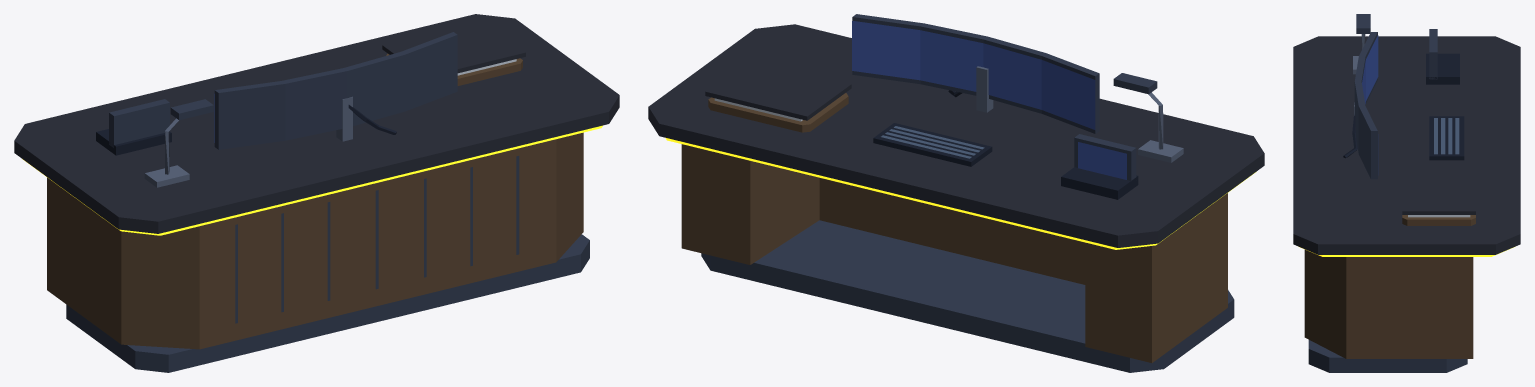
File: off_executive_desk.glb
The picture shows the model from 3 angles, left to right: view 1: azimuth 30°, elevation 25°; view 2: azimuth 150°, elevation 25°; view 3: azimuth 270°, elevation 25°; orthographic projection. The views are drawn at different scales.
Visible parts, largest first — view 1: brief, folio_cover, comms_terminal, floating_edge, cantilever, comms_foot; view 2: folio_cover, brief, comms_terminal, display_chord, comms_foot, cantilever, floating_edge, print, key_row; view 3: folio_cover, brief, comms_terminal, comms_foot, display_chord, key_row, floating_edge.
Boxes of the visible parts, x1=… form: brief: x1=47, y1=53, x2=583, y2=349; folio_cover: x1=14, y1=14, x2=619, y2=233; comms_terminal: x1=66, y1=32, x2=589, y2=372; floating_edge: x1=22, y1=125, x2=602, y2=235; cantilever: x1=144, y1=96, x2=352, y2=187; comms_foot: x1=96, y1=105, x2=396, y2=155; folio_cover: x1=648, y1=24, x2=1264, y2=247; brief: x1=681, y1=93, x2=1227, y2=362; comms_terminal: x1=701, y1=14, x2=1234, y2=372; display_chord: x1=852, y1=21, x2=1095, y2=129; comms_foot: x1=873, y1=90, x2=1138, y2=199; cantilever: x1=976, y1=66, x2=1183, y2=162; floating_edge: x1=665, y1=137, x2=1255, y2=249; print: x1=1078, y1=142, x2=1126, y2=179; key_row: x1=881, y1=126, x2=984, y2=158; folio_cover: x1=1293, y1=36, x2=1520, y2=254; brief: x1=1304, y1=215, x2=1475, y2=358; comms_terminal: x1=1308, y1=14, x2=1467, y2=372; comms_foot: x1=1343, y1=53, x2=1464, y2=160; display_chord: x1=1362, y1=35, x2=1378, y2=175; key_row: x1=1434, y1=118, x2=1459, y2=154; floating_edge: x1=1298, y1=246, x2=1515, y2=256.
Bounding box in the file's own units: 2.6 × 1.15 × 1.2.
